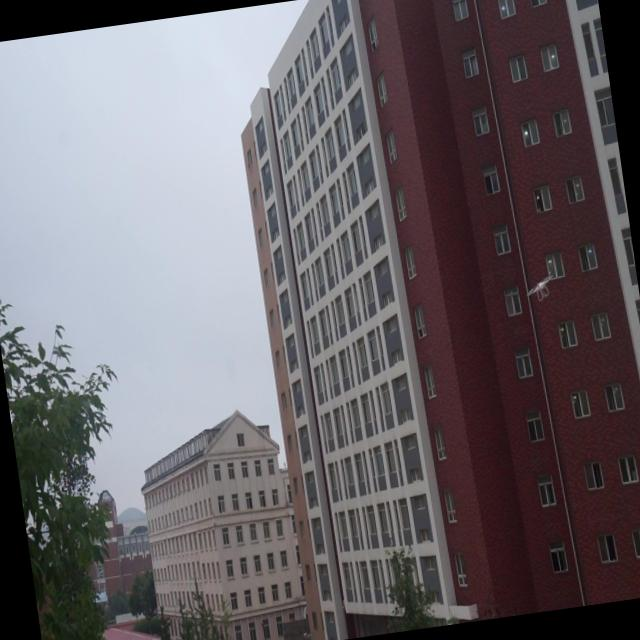drone: (524, 270, 562, 306)
